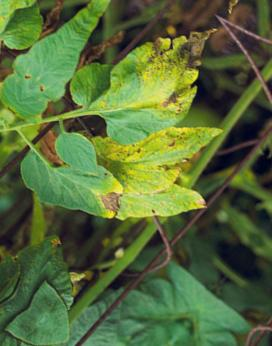Tomato Septoria leaf spot: (80, 0, 240, 165), (71, 66, 227, 225), (72, 125, 222, 273)
